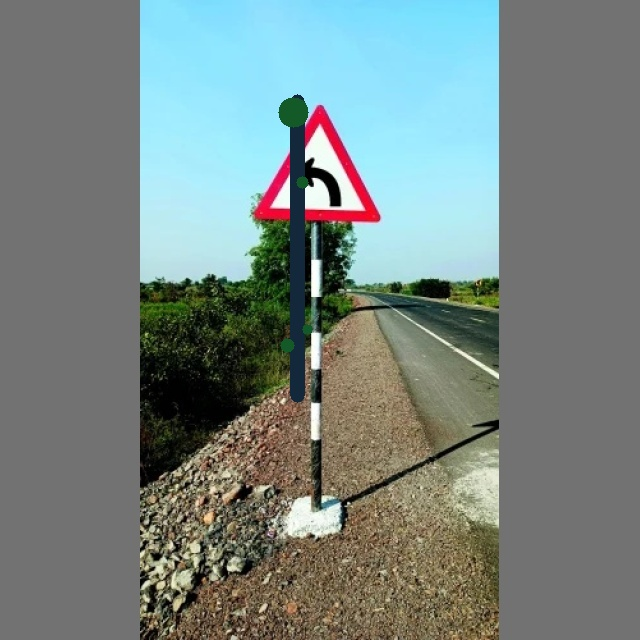Left_Hand_Curve: (261, 101, 377, 229)
